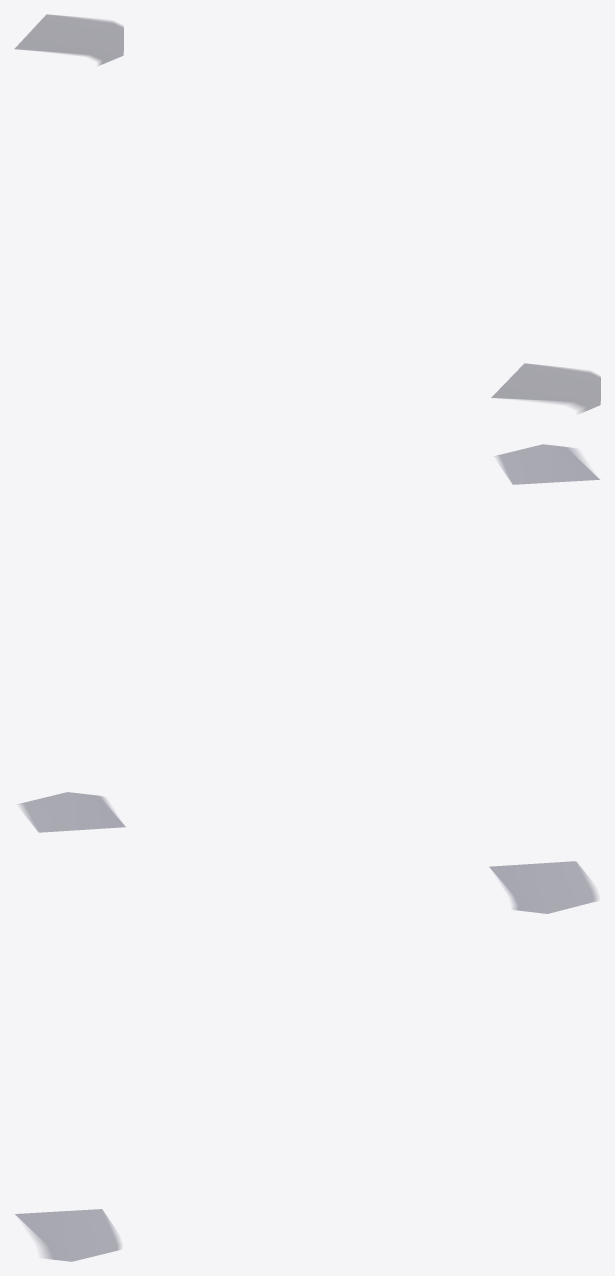
3 renders of one model, top to bottom at view 1: azimuth 30°, elevation 25°; view 2: azimuth 150°, elevation 25°; view 3: azimuth 330°, elevation 25°, orthographic.
Parts seen in each view (by area): view 1: Joint_0_Object_1, Joint_0_Object_0; view 2: Joint_0_Object_1, Joint_0_Object_0; view 3: Joint_0_Object_1, Joint_0_Object_0.
Part boxes in pixels (x1=…): Joint_0_Object_1: x1=15, y1=14, x2=123, y2=65; Joint_0_Object_0: x1=491, y1=363, x2=600, y2=412; Joint_0_Object_1: x1=18, y1=792, x2=125, y2=832; Joint_0_Object_0: x1=496, y1=444, x2=599, y2=484; Joint_0_Object_1: x1=489, y1=861, x2=597, y2=913; Joint_0_Object_0: x1=15, y1=1209, x2=120, y2=1261.
Bounding box in the file's own units: 177 × 13.06 × 1471.
1 material, 1 textured.
